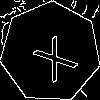X: (25, 27, 79, 84)
